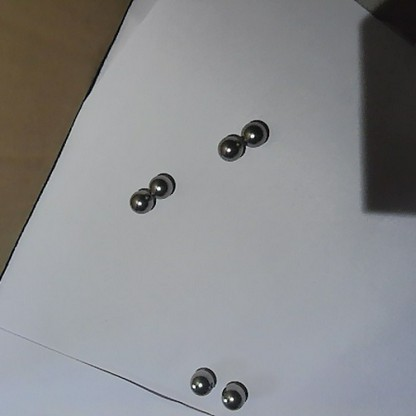ironball: (128, 186, 155, 214), (219, 381, 244, 411), (189, 366, 214, 395), (217, 135, 244, 161), (242, 122, 267, 148), (148, 176, 174, 199)
